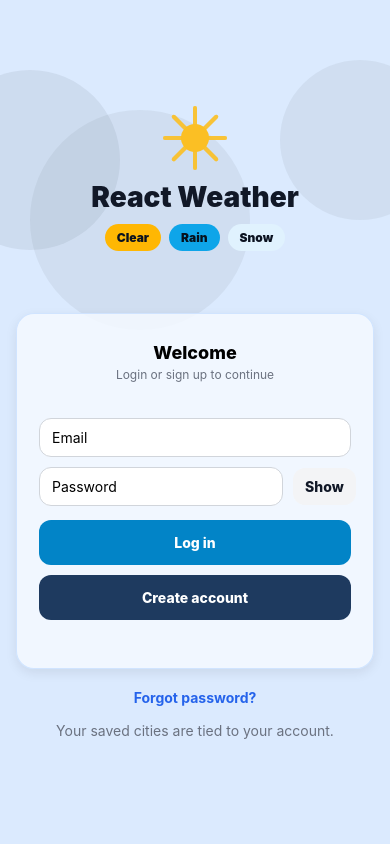
Test: LoginScreen › shows validation error for short password
Type "test@example.com" into the field with placeholder "Email" at x=195, y=437, box [39,418,351,456]
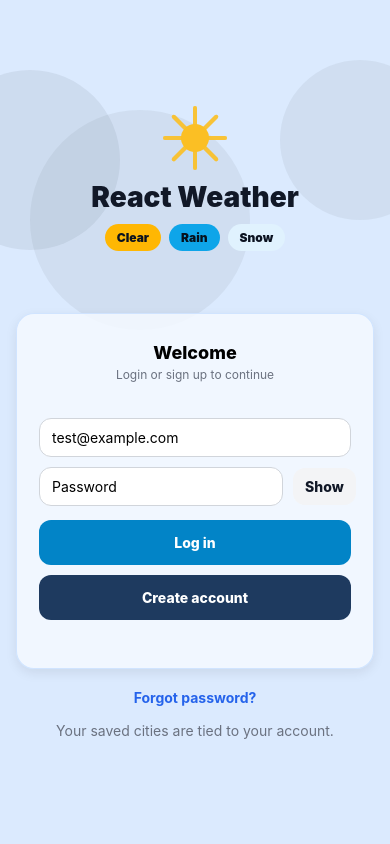
Type "123" into the password field with placeholder "Password" at x=161, y=486, box [39,466,283,506]
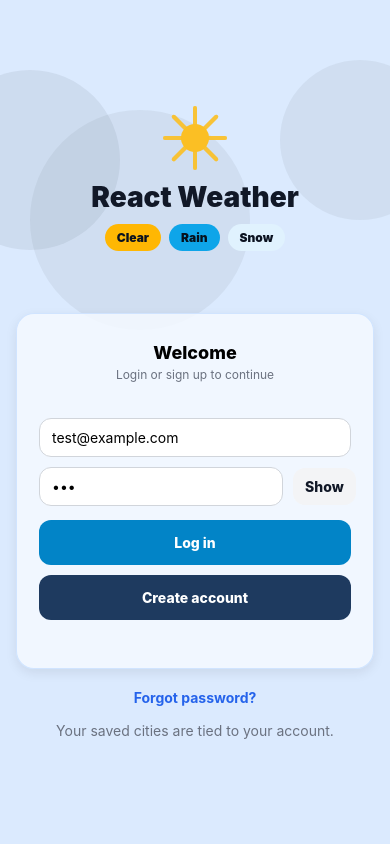
Click the text "Log in" at x=195, y=542, box [174,534,216,550]
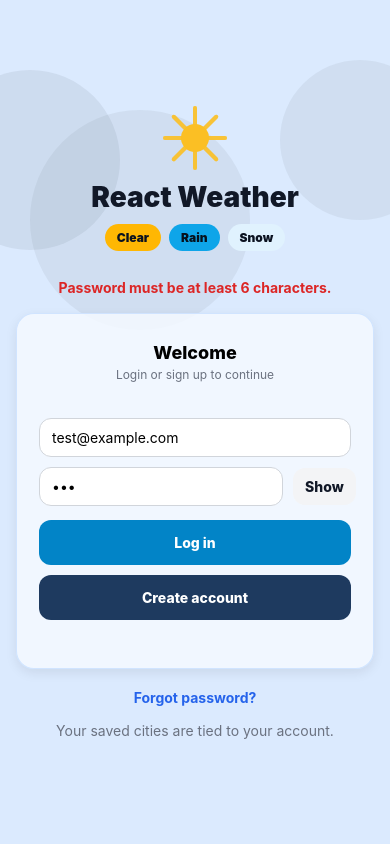
expect the text "Password must be at least 6 characters." is shown: met, box [58,279,331,296]
